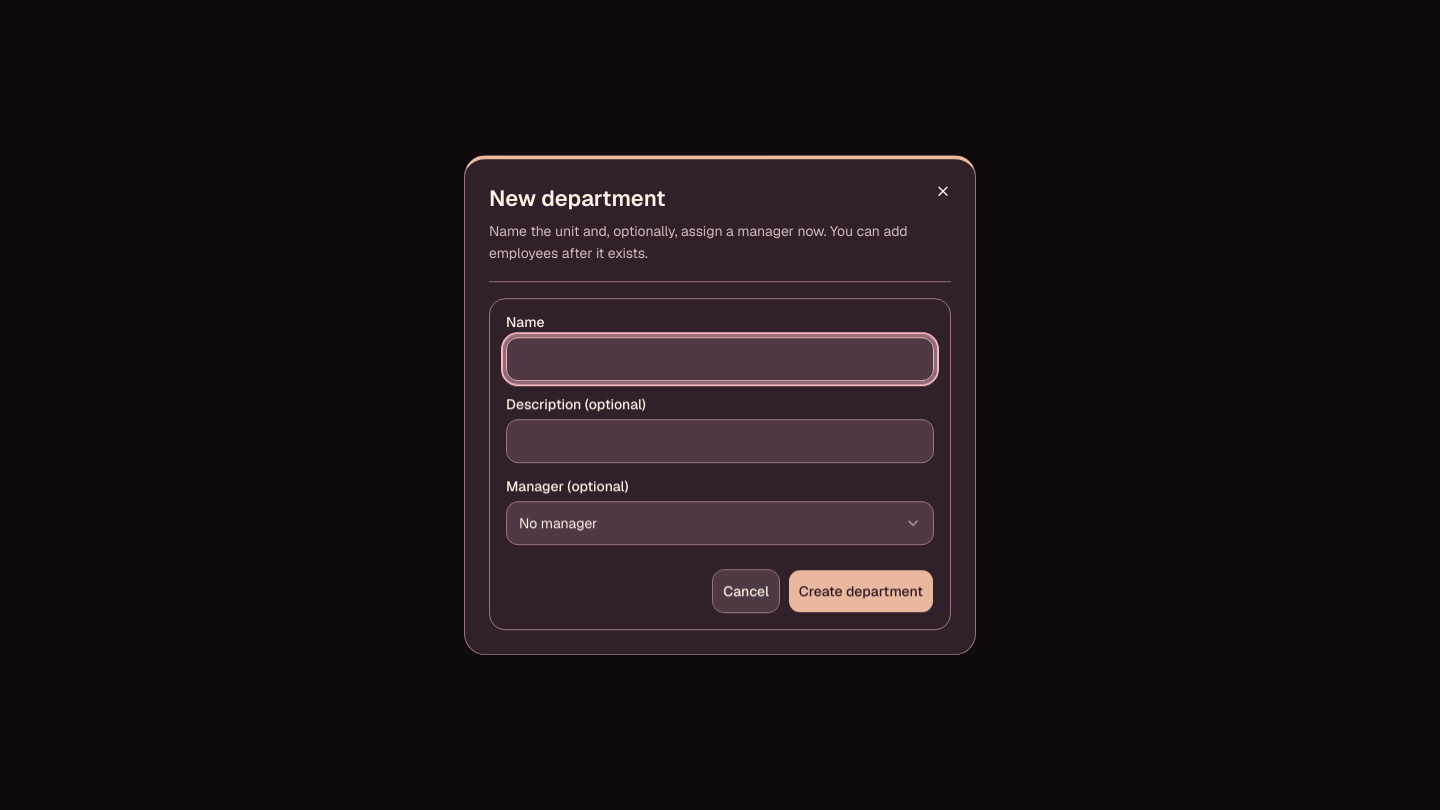
Test: CreateDepartmentDialog › surfaces the permission_denied state
Type "Ops" into the field labelled "Name" at (720, 359), box [506, 337, 934, 381]
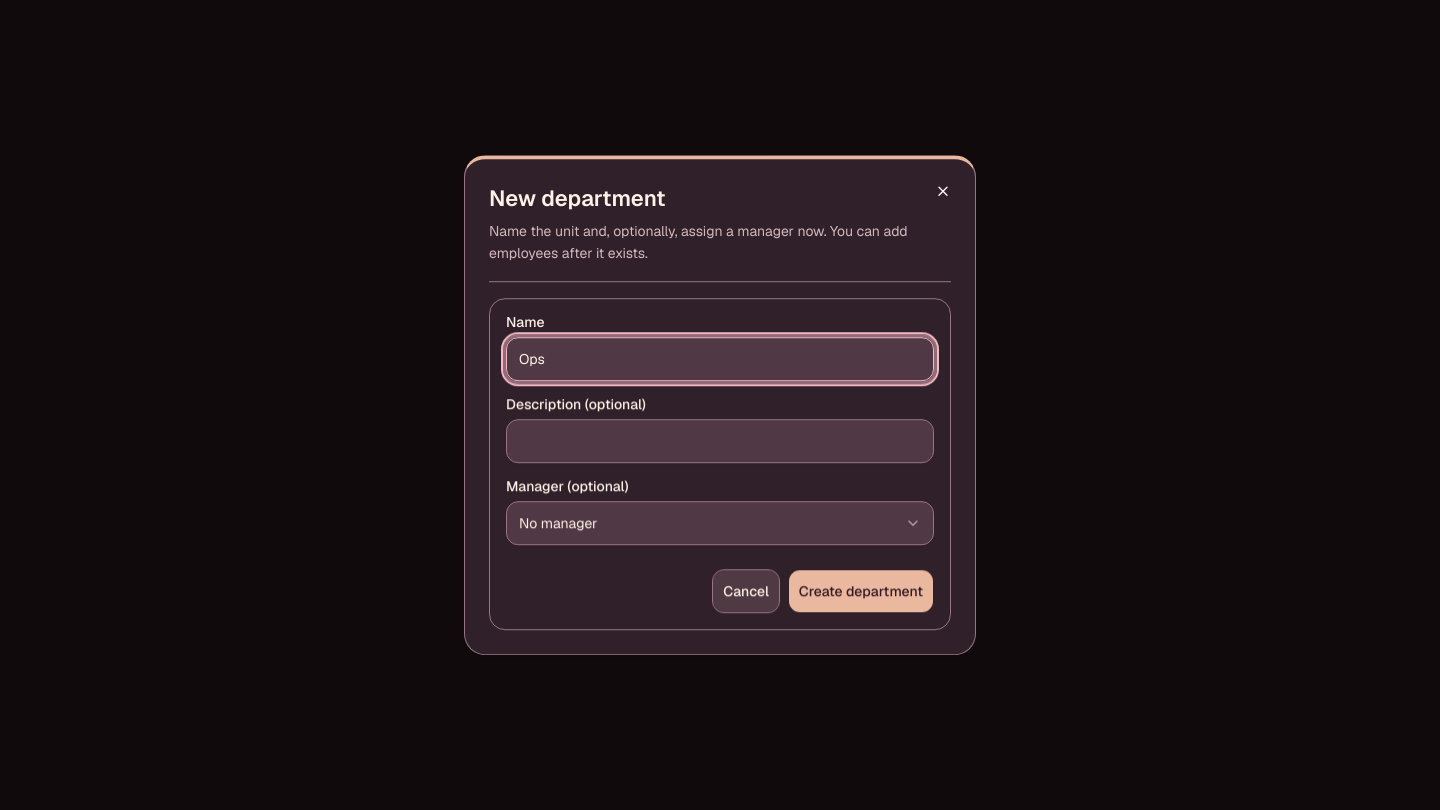
Click the button "Create department" at (861, 591), box [788, 569, 934, 613]
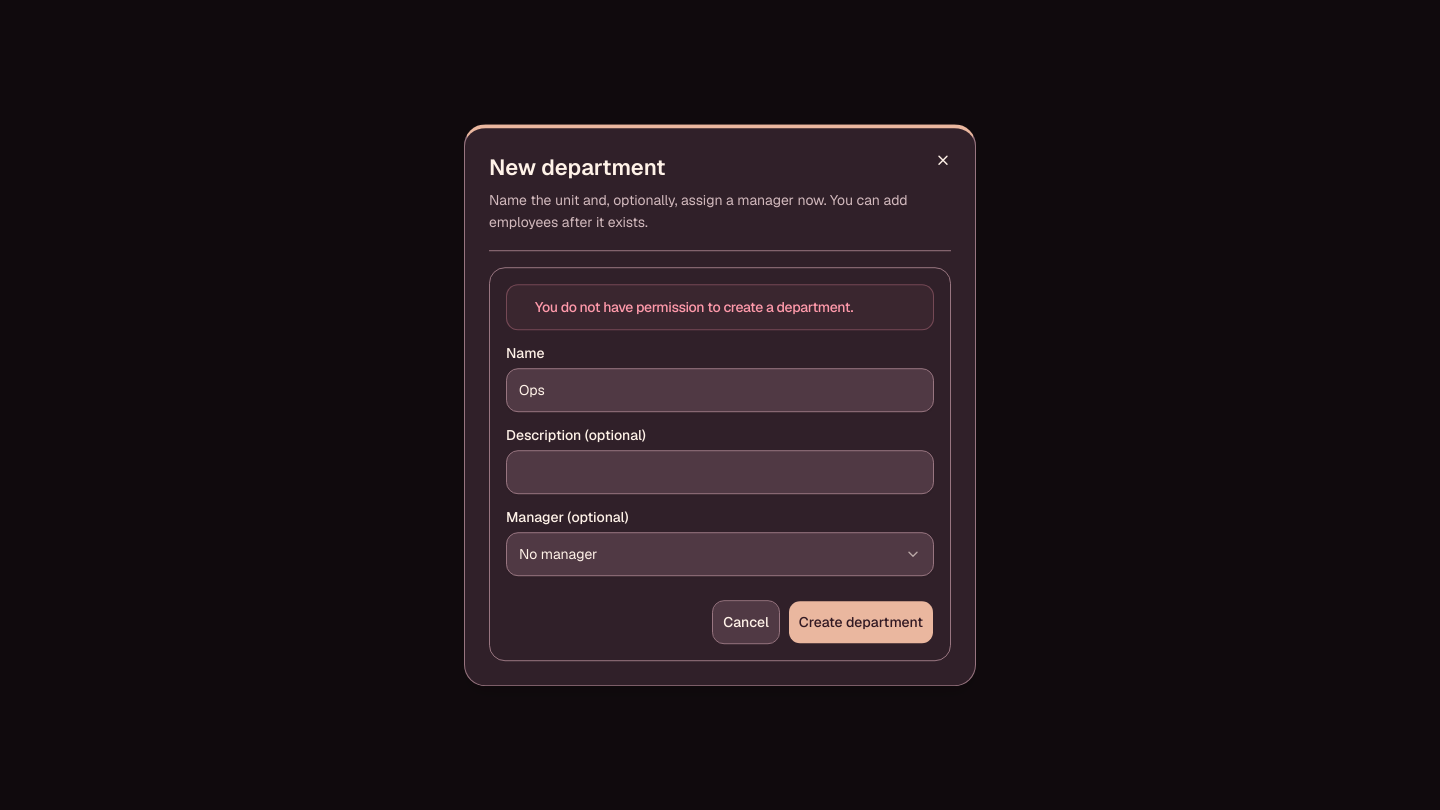
Expected: the text "You do not have permission to create a department." is shown, [535, 298, 853, 316]
